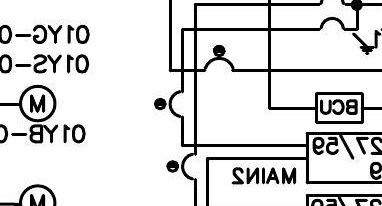BCU: (314, 91, 365, 125)
